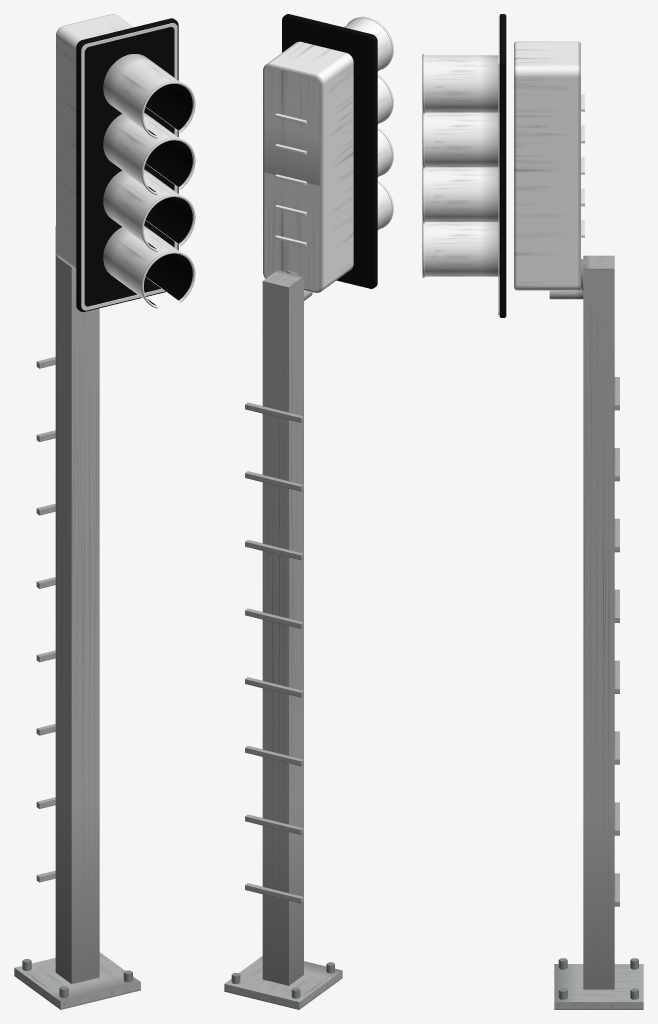
3 views of the same model, side by side, from view 1: azimuth 30°, elevation 25°; view 2: azimuth 150°, elevation 25°; view 3: azimuth 270°, elevation 25° (orthographic). The views are drawn at different scales.
Parts seen in each view (by area): view 1: jp-rail-4; view 2: jp-rail-4; view 3: jp-rail-4.
Boxes of the visible parts, bbox=[...] form: jp-rail-4: bbox=[14, 14, 195, 1009]; jp-rail-4: bbox=[224, 14, 393, 1009]; jp-rail-4: bbox=[422, 14, 643, 1009].
Size of the model in its own units: 0.5 by 4.72 by 0.9902.
Materials: 19 (3 with a texture image).
